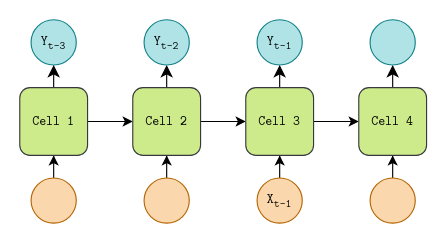
This 446x243 diagram has some shape labels left out. The shapes that lost their labels are listed below. From the top down, each one's centre as x and y in pixels, then its label:
At (392,42): "Y t".
At (53,200): "X t-3".
At (166,200): "X t-2".
At (392,200): "X t".
